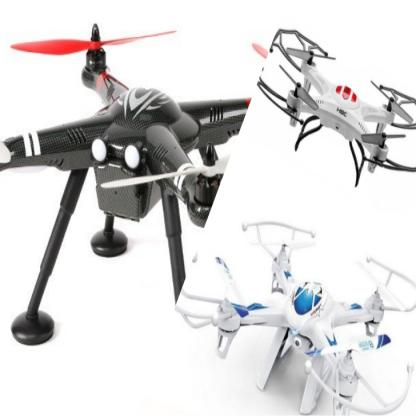drone: (3, 29, 267, 293), (189, 214, 416, 414), (252, 18, 416, 184)
